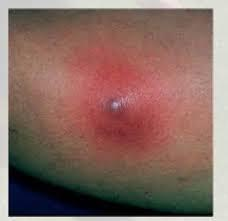Spider: (69, 43, 173, 158)
